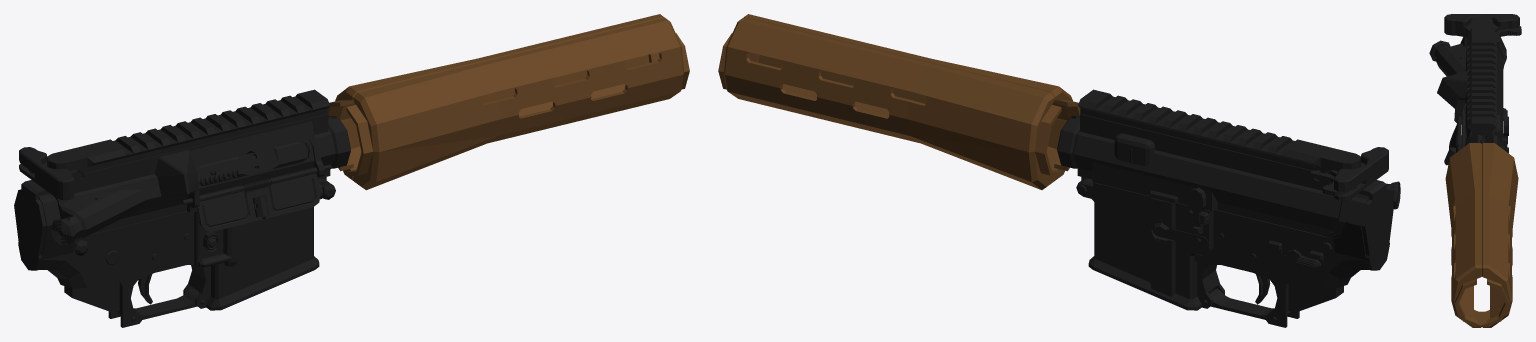
The model's file is adar_2-15.glb.
3 renders of one model, left to right at view 1: azimuth 30°, elevation 25°; view 2: azimuth 150°, elevation 25°; view 3: azimuth 270°, elevation 25°, orthographic. The views are drawn at different scales.
Visible parts, largest first — view 1: adar215 handguard_13, adar215 lower_3, adar215 upper_0, adar215 dust cover_9, adar215 bolt_5, adar215 charging handle_8; view 2: adar215 handguard_13, adar215 upper_0, adar215 lower_3, adar215 charging handle_8, adar215 mag catch_2, adar215 bolt catch_4; view 3: adar215 handguard_13, adar215 upper_0, adar215 charging handle_8, adar215 dust cover_9, adar215 bolt catch_4, adar215 lower_3.
Part boxes in pixels (x1,y1,x2,y2): adar215 handguard_13: (327,14,689,190); adar215 lower_3: (14,178,335,327); adar215 upper_0: (47,89,350,245); adar215 dust cover_9: (182,164,331,231); adar215 bolt_5: (196,142,308,185); adar215 charging handle_8: (19,147,81,200); adar215 handguard_13: (718,14,1080,189); adar215 upper_0: (1057,89,1400,236); adar215 lower_3: (1076,178,1393,327); adar215 charging handle_8: (1310,147,1388,200); adar215 mag catch_2: (1152,227,1208,247); adar215 bolt catch_4: (1188,187,1206,234); adar215 handguard_13: (1445,143,1518,327); adar215 upper_0: (1429,15,1506,148); adar215 charging handle_8: (1444,14,1521,45); adar215 dust cover_9: (1444,116,1461,165); adar215 bolt catch_4: (1503,116,1508,153); adar215 lower_3: (1460,37,1507,149).
Size of the model in its own units: 4.32 by 1.14 by 0.6582.
